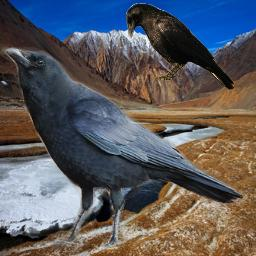Crow: (1, 47, 243, 251), (126, 3, 236, 90)
